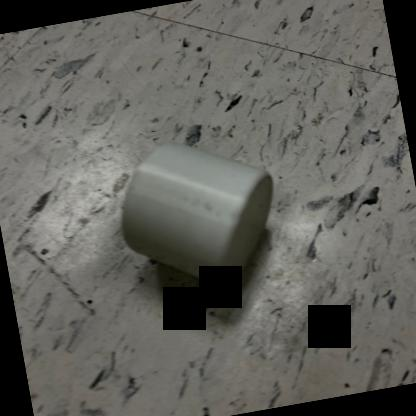white cylinder: (106, 120, 295, 312)
